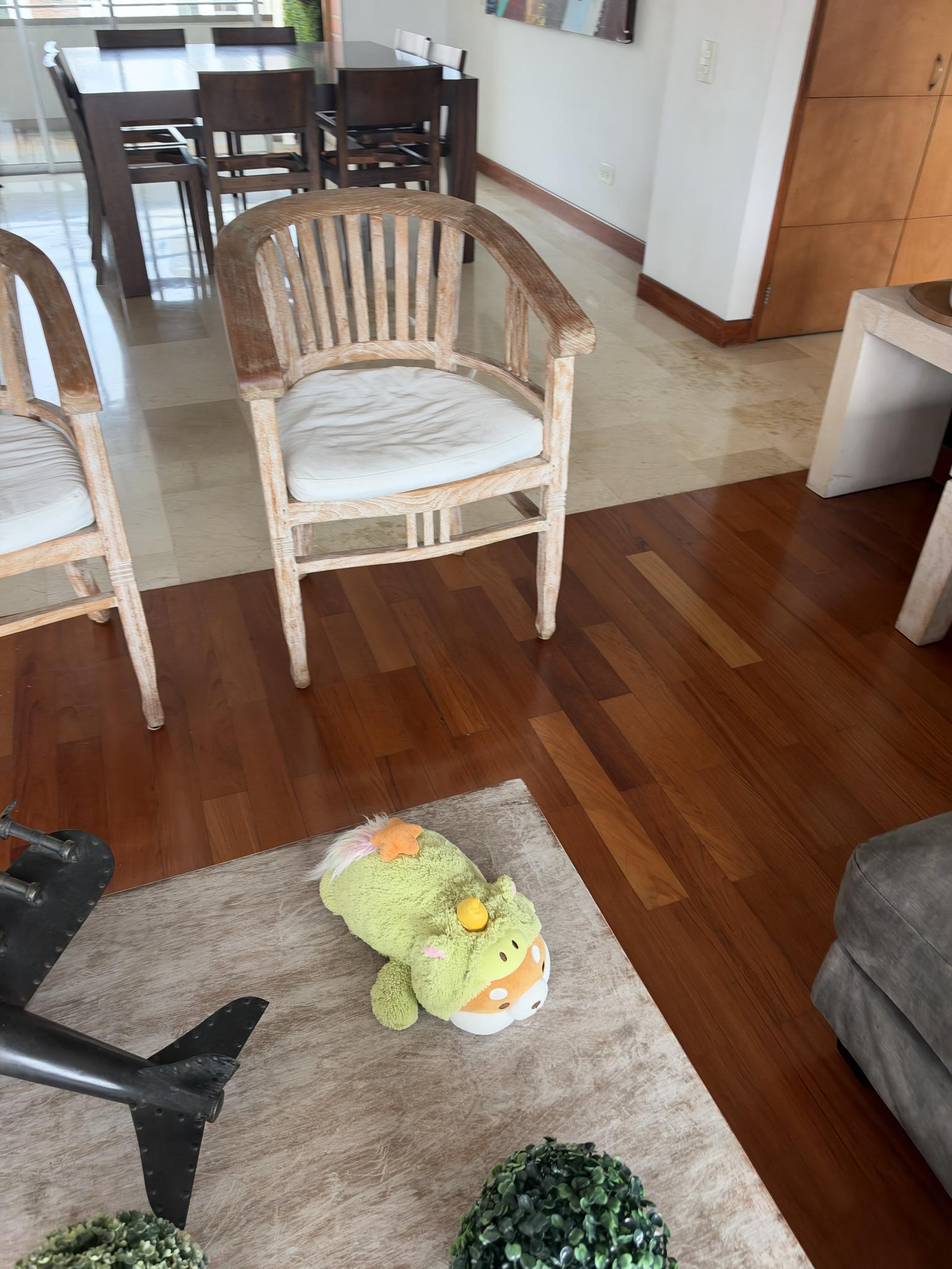peluche_martin: (304, 811, 551, 1037)
